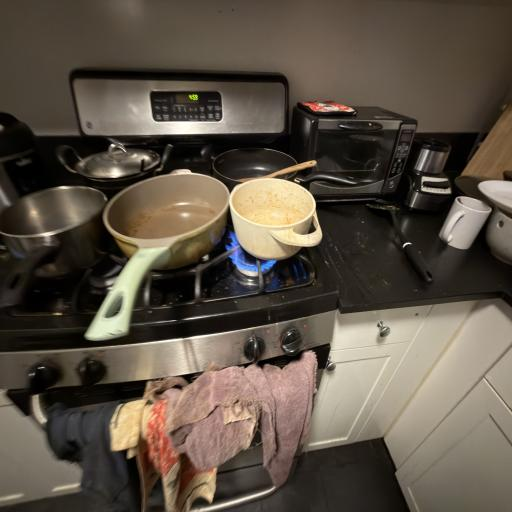Flame: (219, 237, 282, 278)
Pan: (94, 161, 232, 368), (4, 170, 108, 311), (230, 181, 330, 264), (202, 138, 328, 201), (54, 139, 171, 195)
